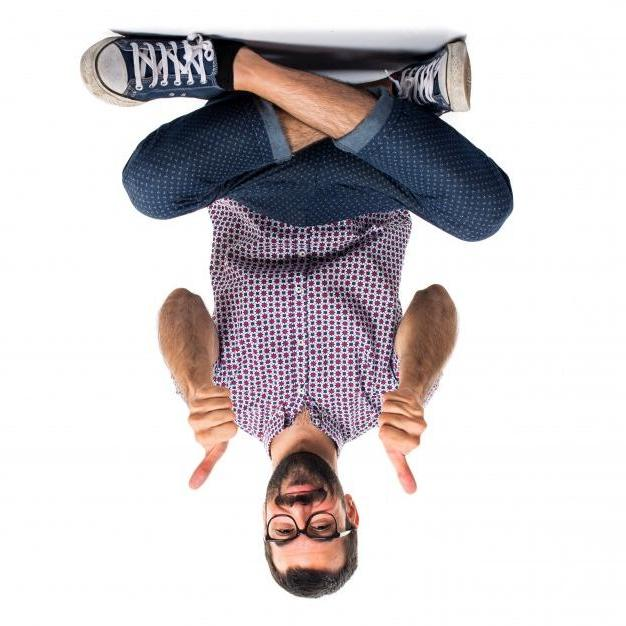thumbsdown: (187, 386, 237, 490), (379, 391, 428, 495)
